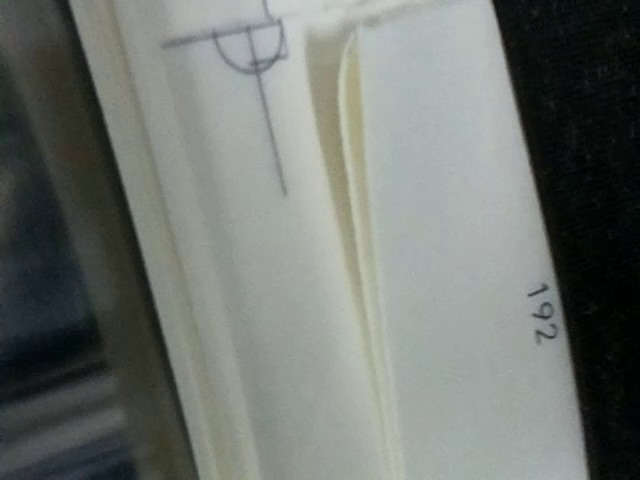aligned: (162, 1, 302, 78)
